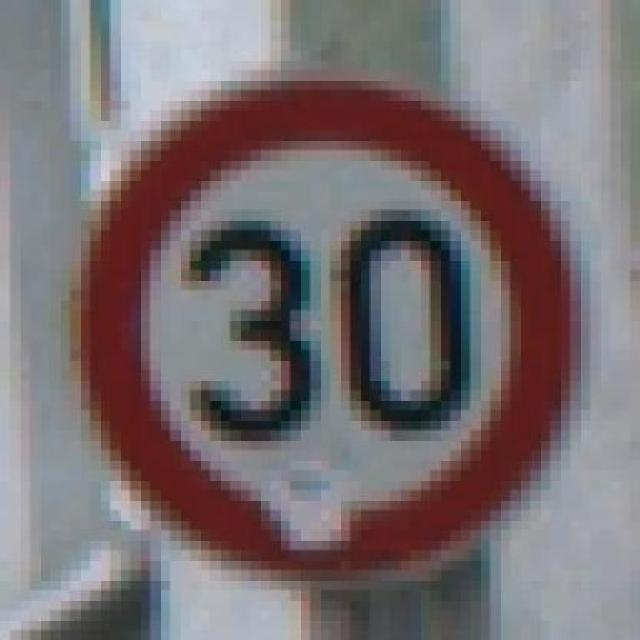Speed Limit 30 KMPh: (60, 70, 611, 601)
